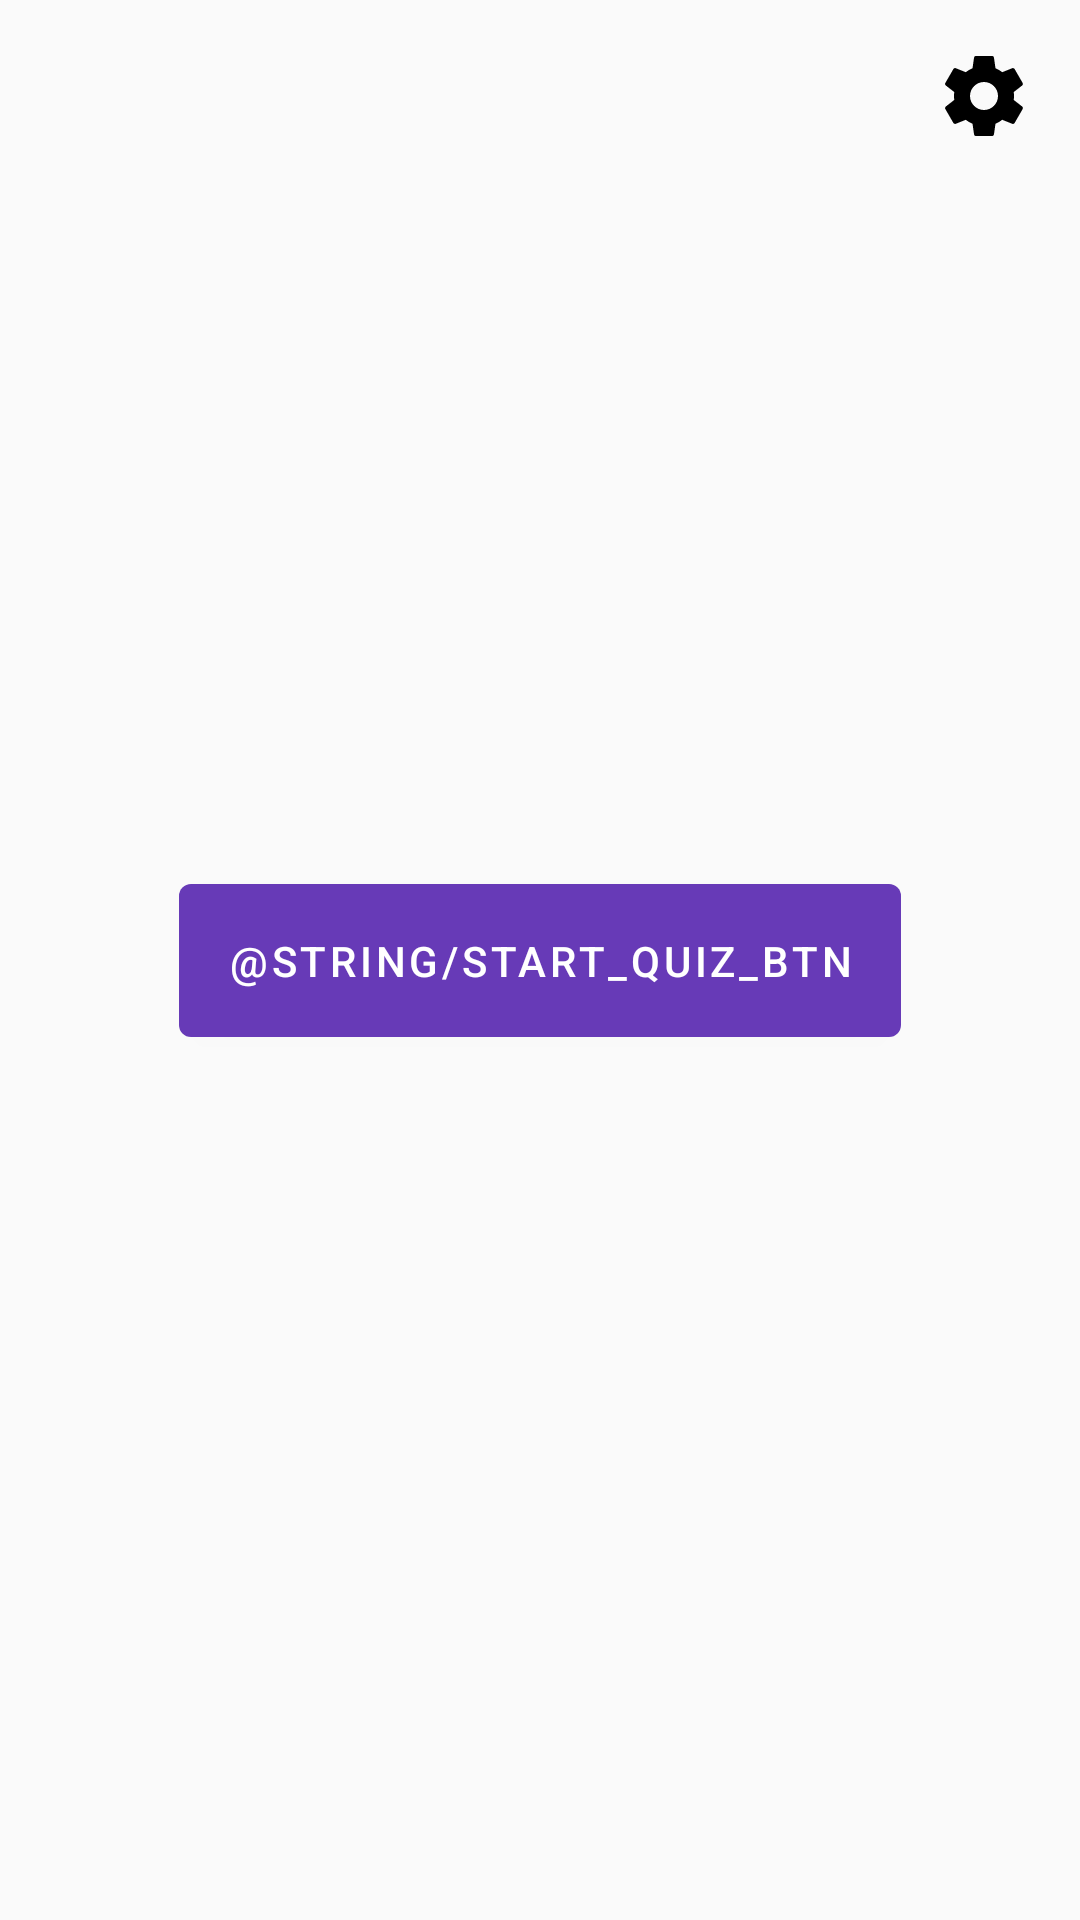

Icon click points for this 1080w x 1920h phone screenshot, format [x,y]:
settings: [984,96]
